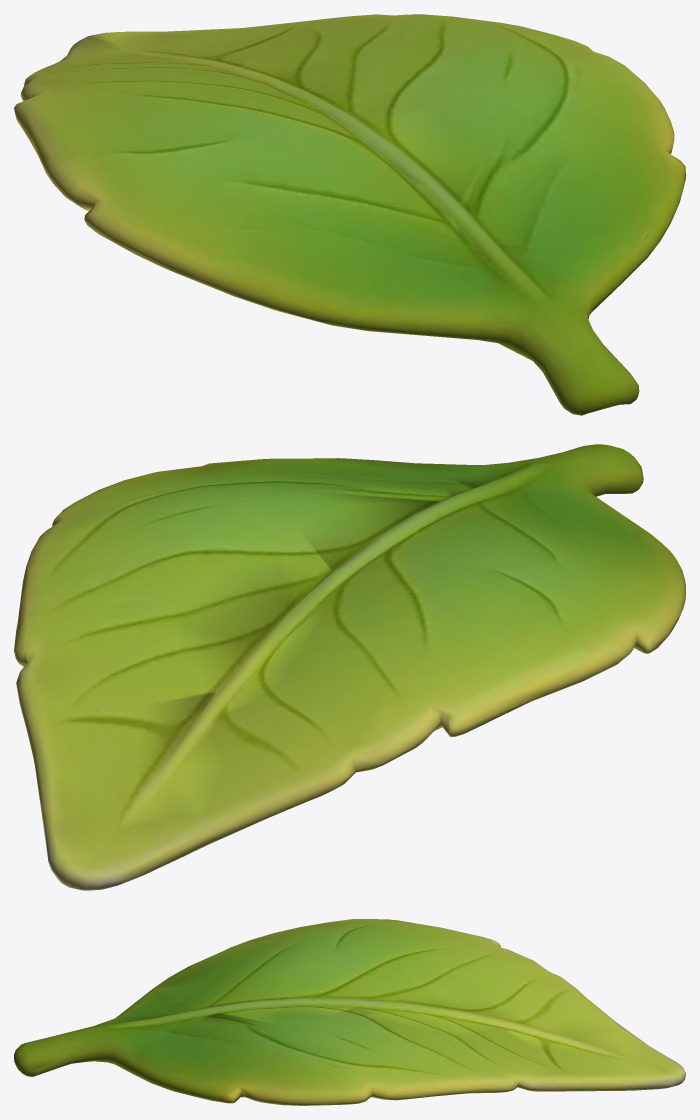
The picture shows the model from 3 angles, top to bottom: view 1: azimuth 30°, elevation 25°; view 2: azimuth 150°, elevation 25°; view 3: azimuth 270°, elevation 25°; orthographic projection. The views are drawn at different scales.
Visible parts, largest first — view 1: material; view 2: material; view 3: material.
Boxes of the visible parts, x1=… form: material: x1=14, y1=14, x2=685, y2=415; material: x1=14, y1=444, x2=685, y2=890; material: x1=14, y1=919, x2=685, y2=1105.
Size of the model in its own units: 0.6126 by 0.1515 by 1.
Materials: 1 (1 with a texture image).
